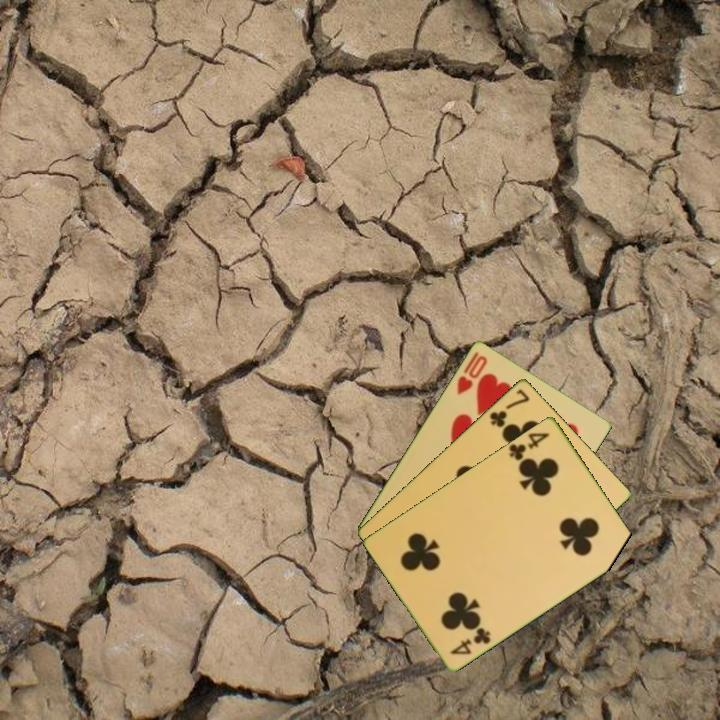10h: (453, 351, 490, 397)
4c: (505, 429, 553, 463), (446, 623, 494, 657)
7c: (486, 385, 533, 430)
